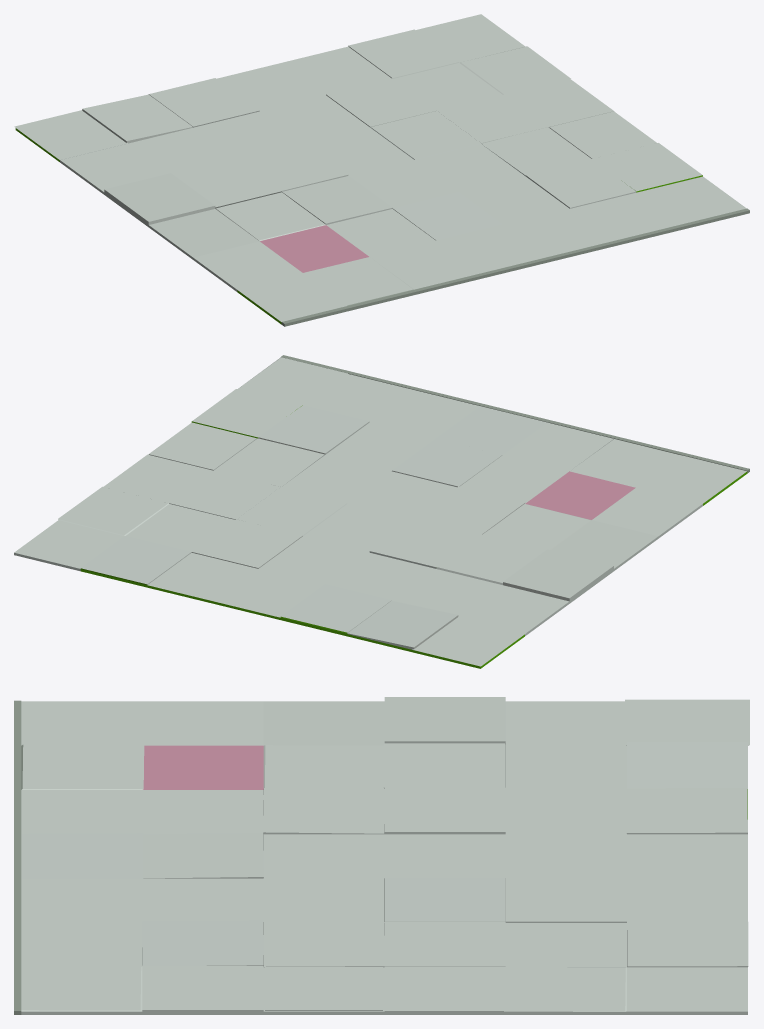
Rendered from Concrete_Curb.fbx.
The picture shows the model from 3 angles, top to bottom: view 1: azimuth 30°, elevation 25°; view 2: azimuth 150°, elevation 25°; view 3: azimuth 270°, elevation 25°; orthographic projection. The views are drawn at different scales.
Parts seen in each view (by area): view 1: Plane; view 2: Plane; view 3: Plane.
Part boxes in pixels (left/top/right/bottom): Plane: left=14, top=14, right=749, bottom=326; Plane: left=14, top=355, right=749, bottom=668; Plane: left=14, top=697, right=749, bottom=1014.
Size of the model in its own units: 20.1 by 0.2285 by 20.05.
